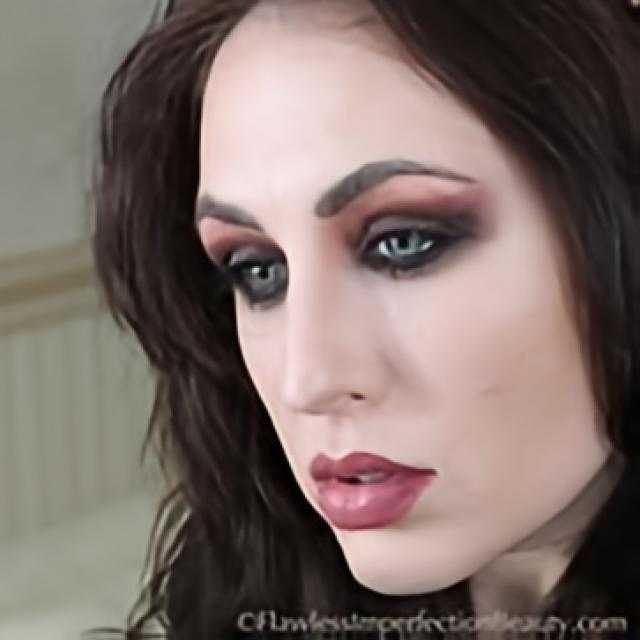neutral: (192, 0, 615, 597)
